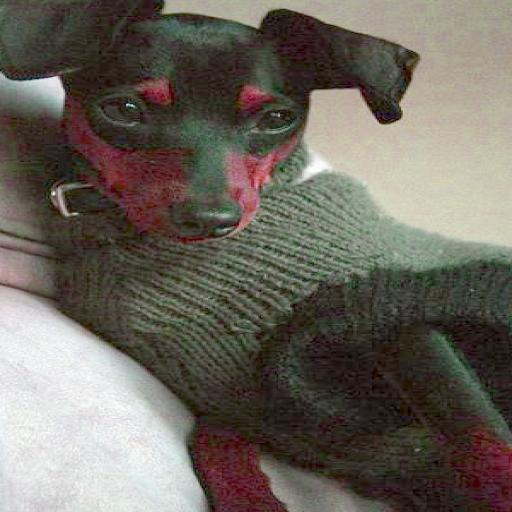dog_face: (0, 0, 418, 237)
